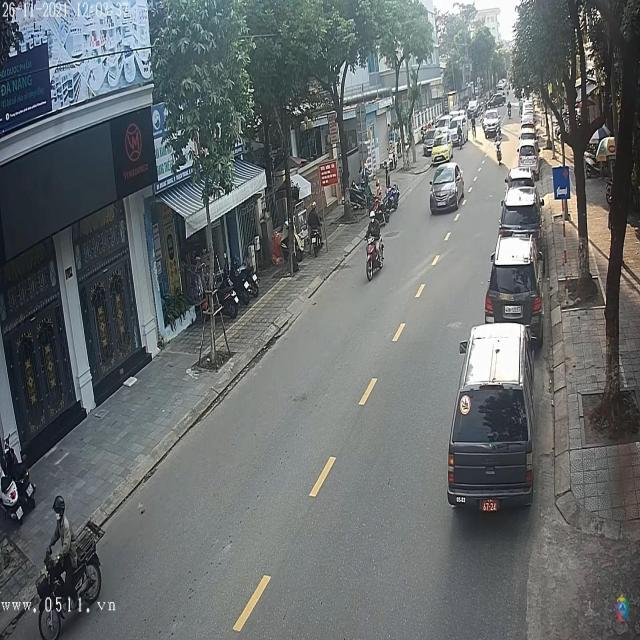car: (449, 325, 534, 511), (485, 235, 544, 332), (428, 164, 464, 215), (501, 183, 540, 227)
motorcycle: (36, 532, 105, 640), (364, 234, 386, 280)
